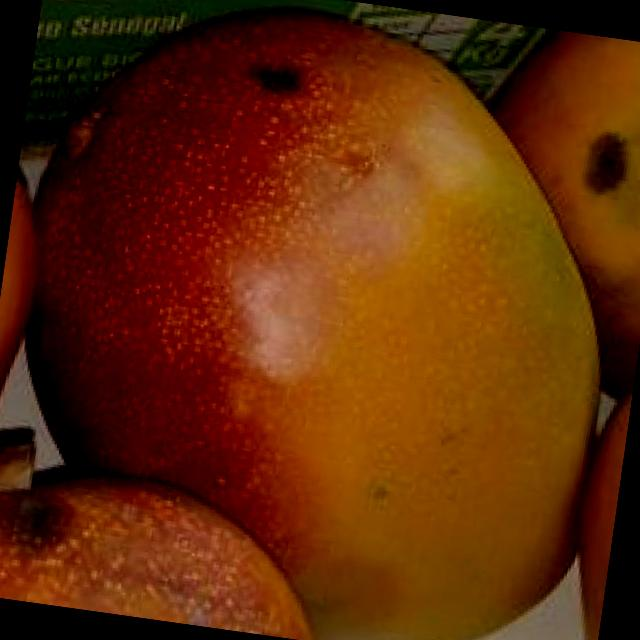Mango: (0, 0, 640, 640), (446, 21, 640, 397), (0, 456, 335, 640)
